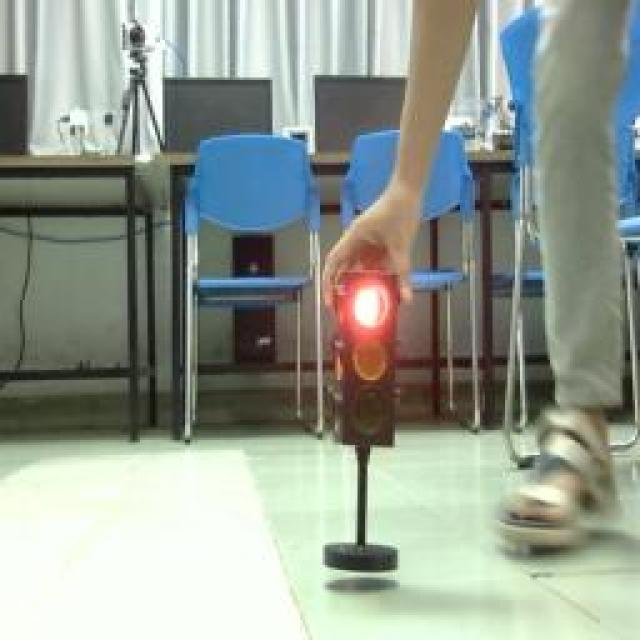-: (351, 277, 391, 330)
